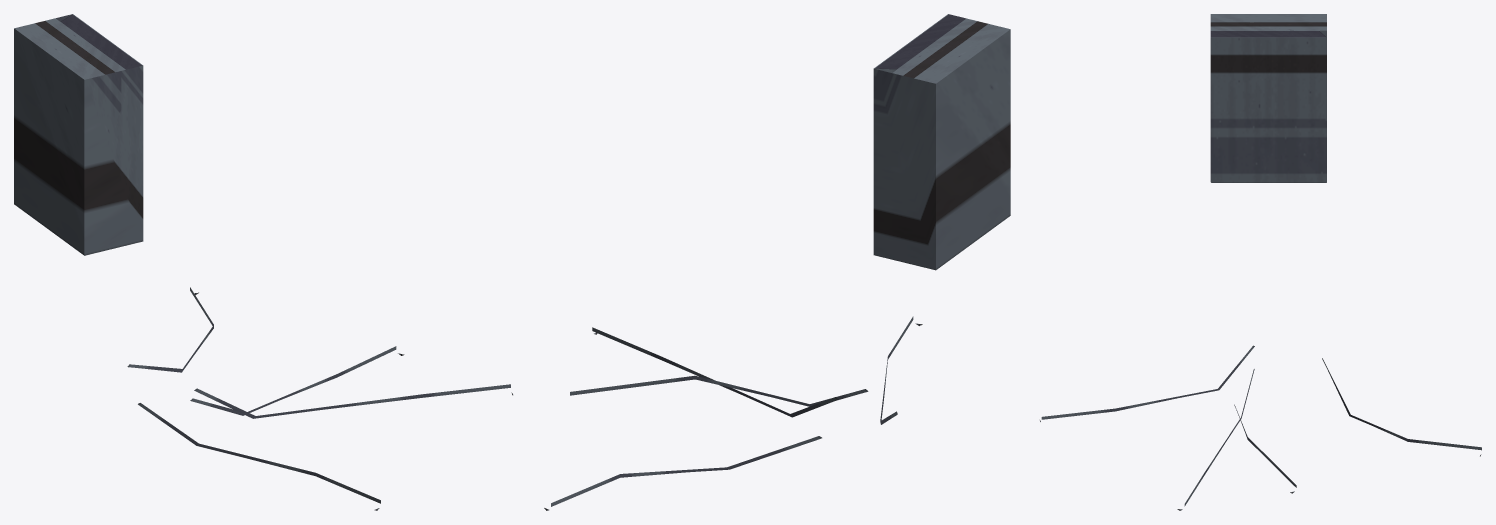
Rendered from brokenCableBox.fbx.
The picture shows the model from 3 angles, left to right: view 1: azimuth 30°, elevation 25°; view 2: azimuth 150°, elevation 25°; view 3: azimuth 270°, elevation 25°; orthographic projection. The views are drawn at different scales.
Visible parts, largest first — view 1: brokenCableBox; view 2: brokenCableBox; view 3: brokenCableBox.
Part boxes in pixels (<box>): brokenCableBox: <box>14,14,512,510</box>; brokenCableBox: <box>544,14,1010,510</box>; brokenCableBox: <box>1040,14,1481,510</box>.
Bounding box in the file's own units: 244 × 229 × 276.
